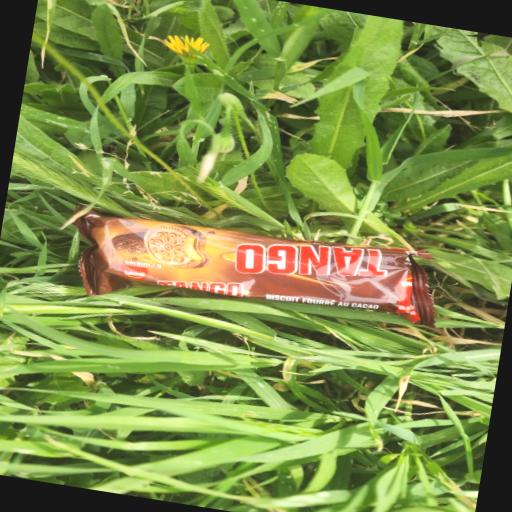tango: (36, 138, 491, 404)
